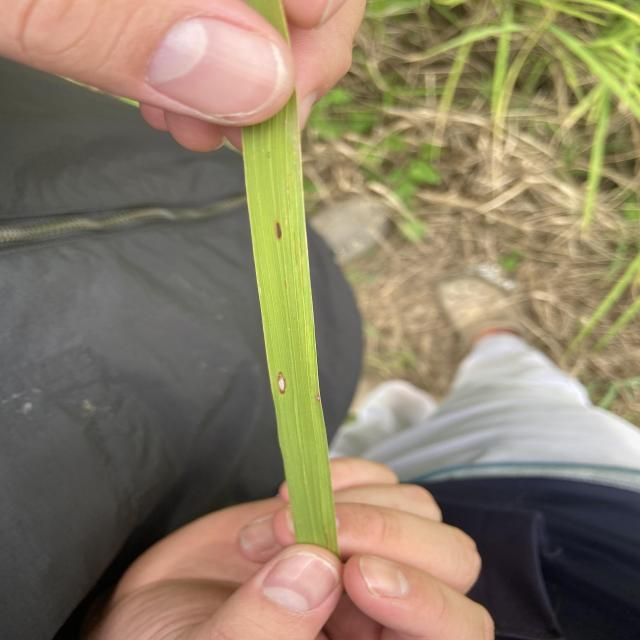Dao on: (278, 372, 286, 394), (316, 395, 320, 401)
